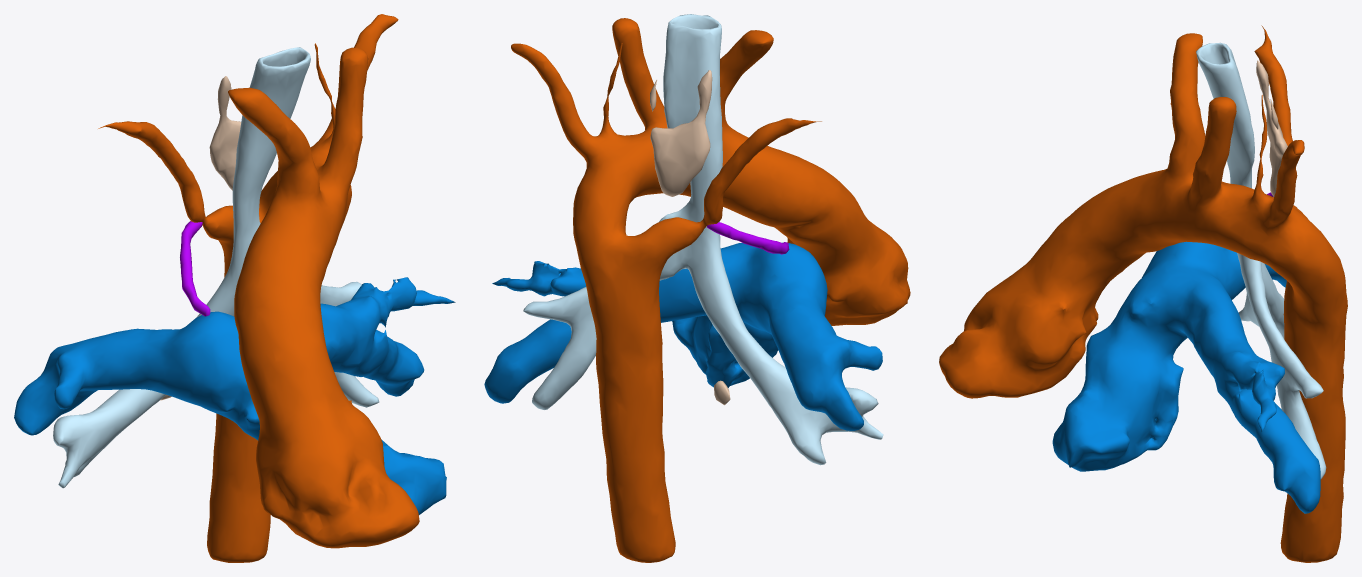
The model's file is {I,D,D} RAA type2.gltf.
3 renders of one model, left to right at view 1: azimuth 30°, elevation 25°; view 2: azimuth 150°, elevation 25°; view 3: azimuth 270°, elevation 25°, orthographic. The views are drawn at different scales.
Parts seen in each view (by area): view 1: aorta, pa, trachea, esophagus, ligamentum arteriosum; view 2: aorta, pa, trachea, esophagus, ligamentum arteriosum; view 3: aorta, pa, trachea, esophagus.
Part boxes in pixels (x1,y1,x2,y2): aorta: (98,14,419,562); pa: (14,277,455,514); trachea: (53,47,379,488); esophagus: (160,76,241,400); ligamentum arteriosum: (180,221,210,316); aorta: (511,18,910,562); pa: (484,242,882,430); trachea: (523,14,883,465); esophagus: (650,70,730,405); ligamentum arteriosum: (707,222,789,254); aorta: (939,25,1347,562); pa: (1052,241,1320,513); trachea: (1196,42,1326,479); esophagus: (1256,60,1287,196).
Size of the model in its own units: 48.28 by 58.95 by 43.6.
